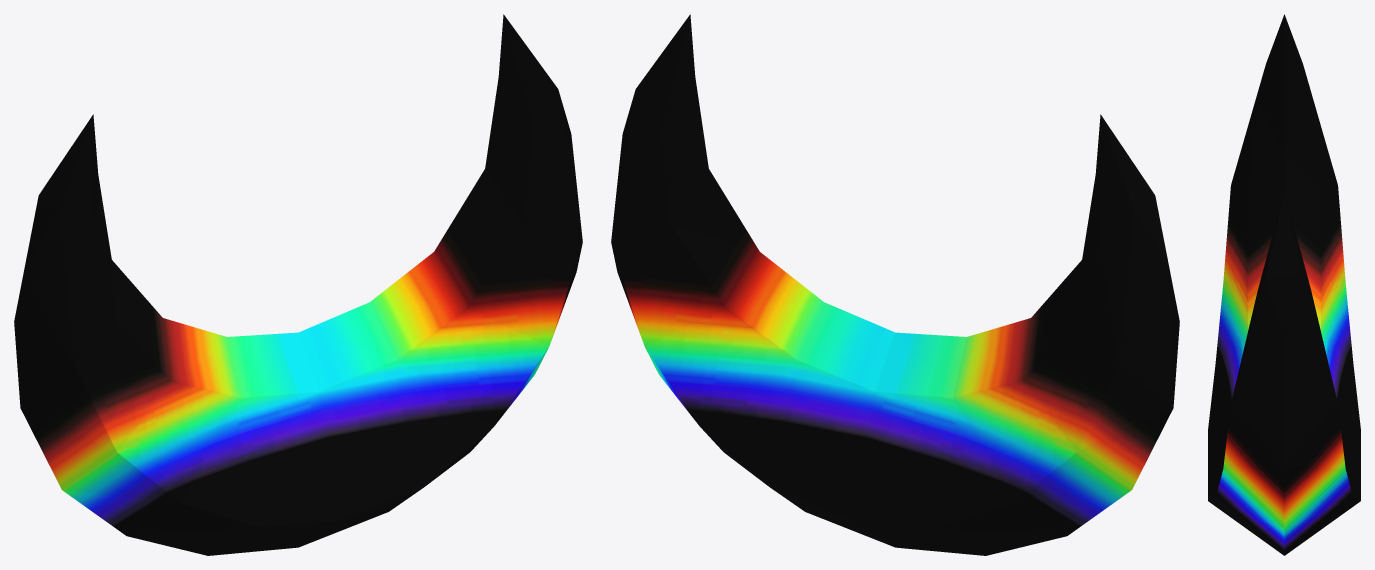
Rendered from lux-basic-crescent.glb.
The picture shows the model from 3 angles, left to right: view 1: azimuth 30°, elevation 25°; view 2: azimuth 150°, elevation 25°; view 3: azimuth 270°, elevation 25°; orthographic projection. The views are drawn at different scales.
Visible parts, largest first — view 1: crescentwhite; view 2: crescentwhite; view 3: crescentwhite.
Part boxes in pixels (x1,y1,x2,y2): crescentwhite: (14, 14, 582, 555); crescentwhite: (611, 14, 1179, 555); crescentwhite: (1208, 14, 1360, 555).
Size of the model in its own units: 0.1874 by 0.1557 by 0.0506.
Materials: 1 (1 with a texture image).
